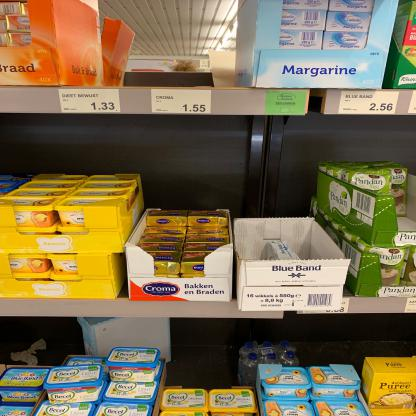prtg: (60, 90, 122, 114), (152, 90, 212, 114), (339, 92, 400, 115)
